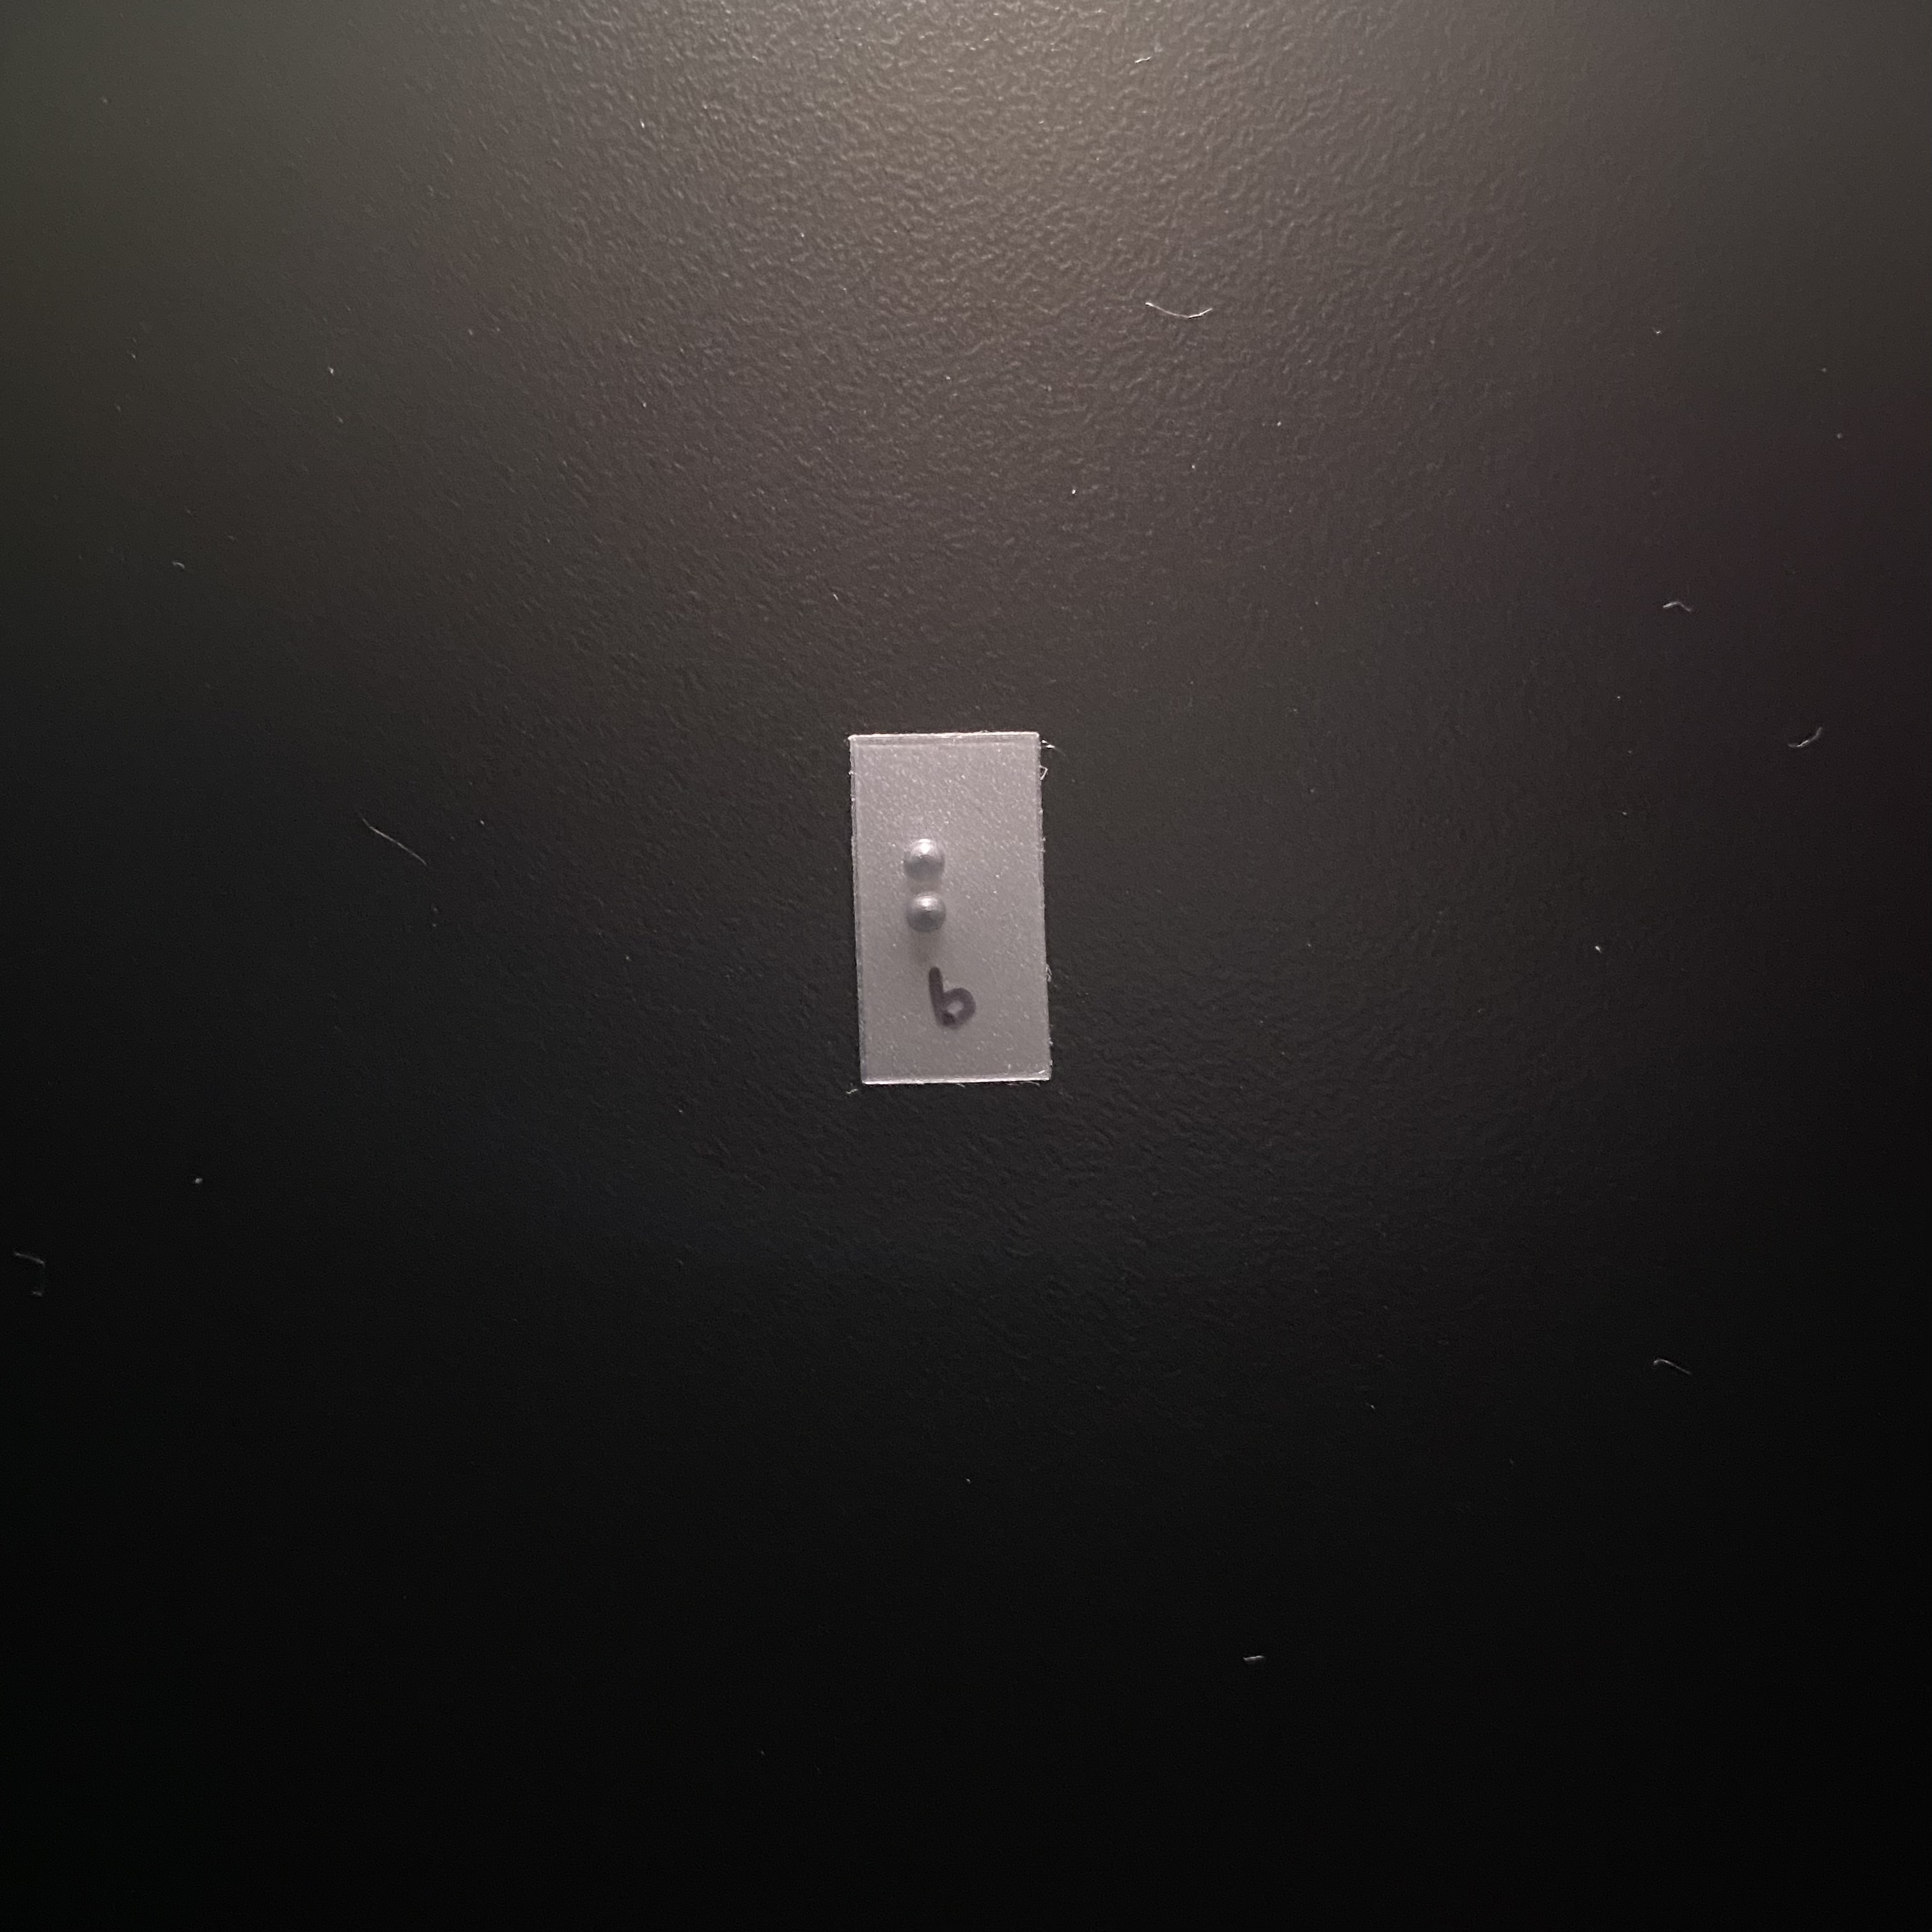b: (886, 815, 1016, 1013)
